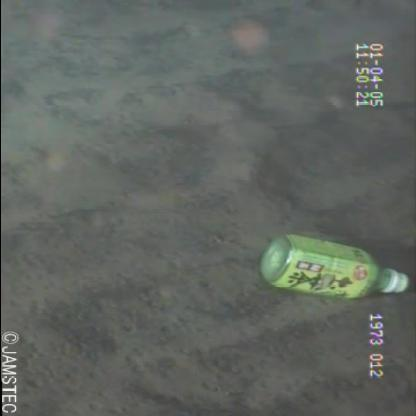Rác: (248, 226, 412, 310)
